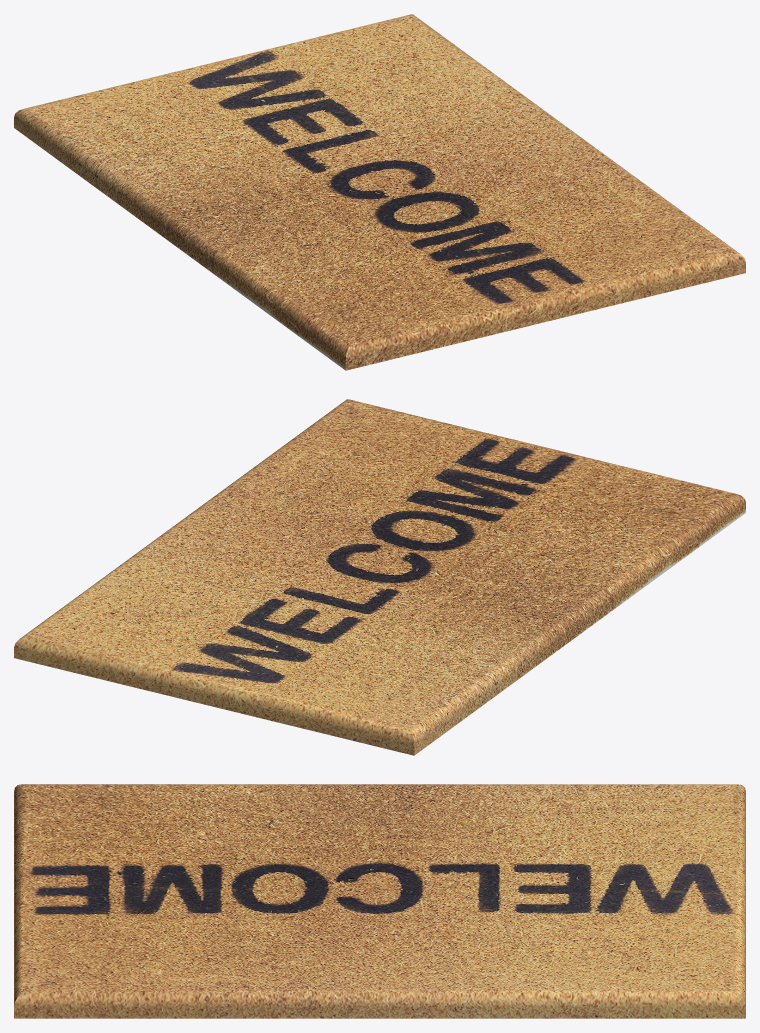
File: 034_door_mat.fbx
3 views of the same model, one above another, from view 1: azimuth 30°, elevation 25°; view 2: azimuth 150°, elevation 25°; view 3: azimuth 270°, elevation 25° (orthographic). The views are drawn at different scales.
Parts seen in each view (by area): view 1: pCube76; view 2: pCube76; view 3: pCube76.
Boxes of the visible parts, box(x1,y1,x2,y2) form: pCube76: box(14, 14, 745, 370); pCube76: box(14, 399, 745, 755); pCube76: box(14, 784, 745, 1018).
Size of the model in its own units: 5.39 by 0.2698 by 7.74.
